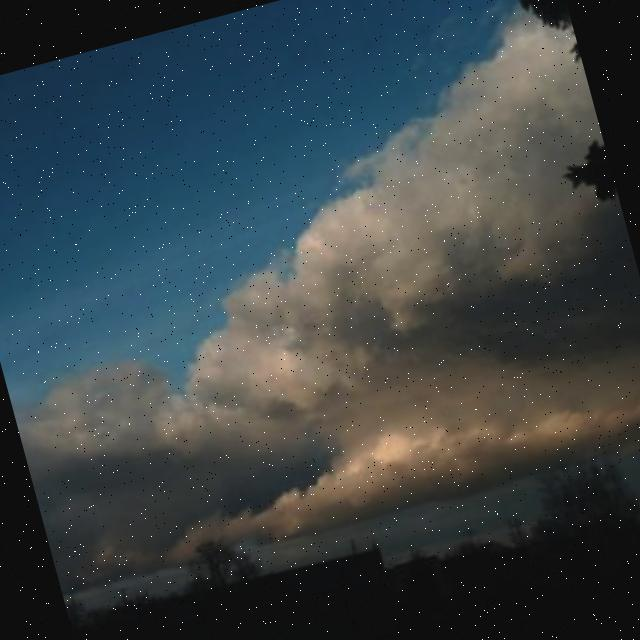Cu: (1, 79, 640, 555)
